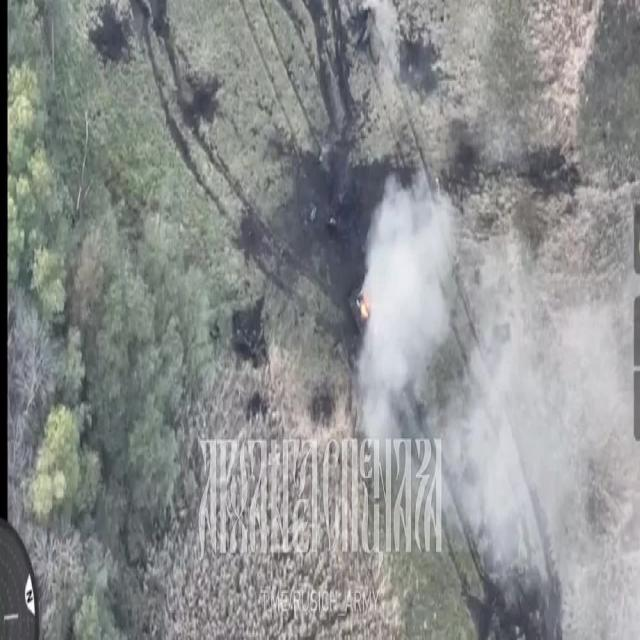destroyed: (348, 272, 384, 360)
